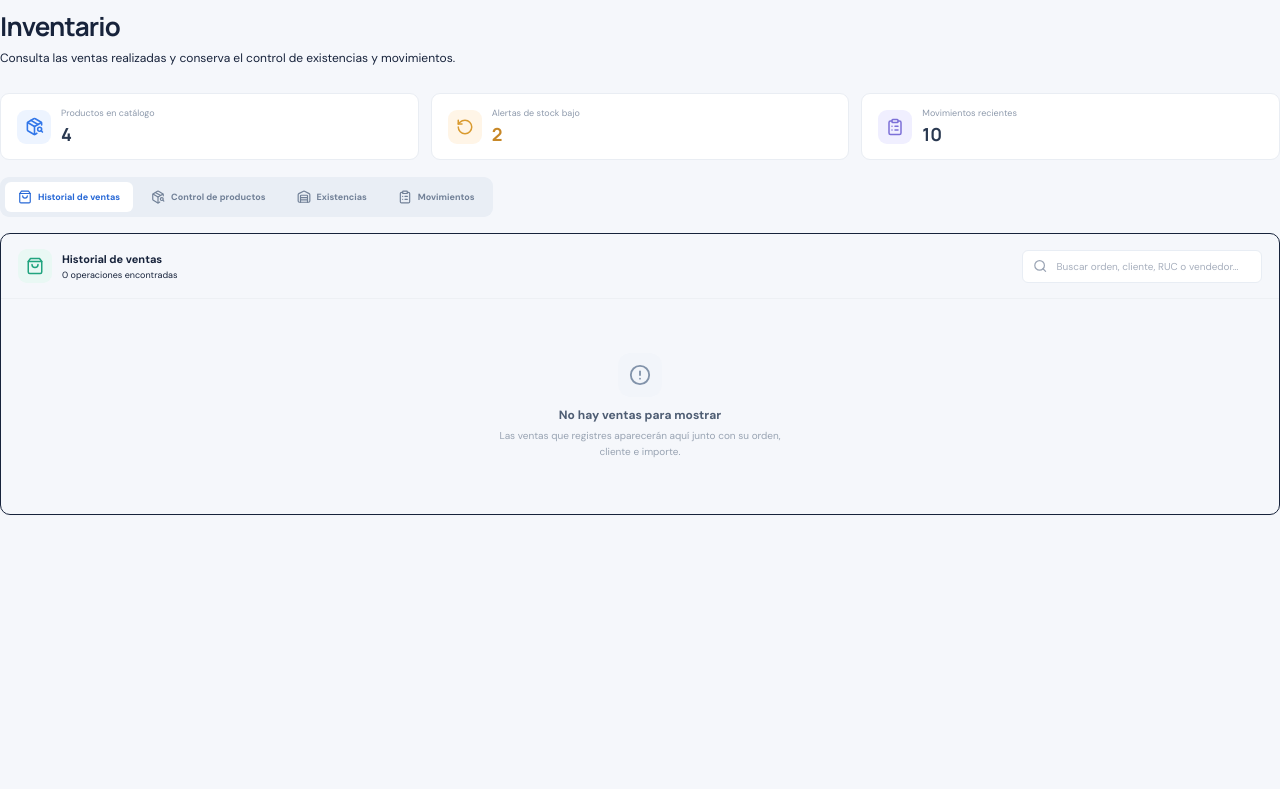
Test: InventoryPage product control › abre todos los movimientos recientes y permite filtrarlos por tipo
Click the tab "Control de productos" at (208, 197), box x1=138 y1=182 x2=278 y2=212
(page scrolled)
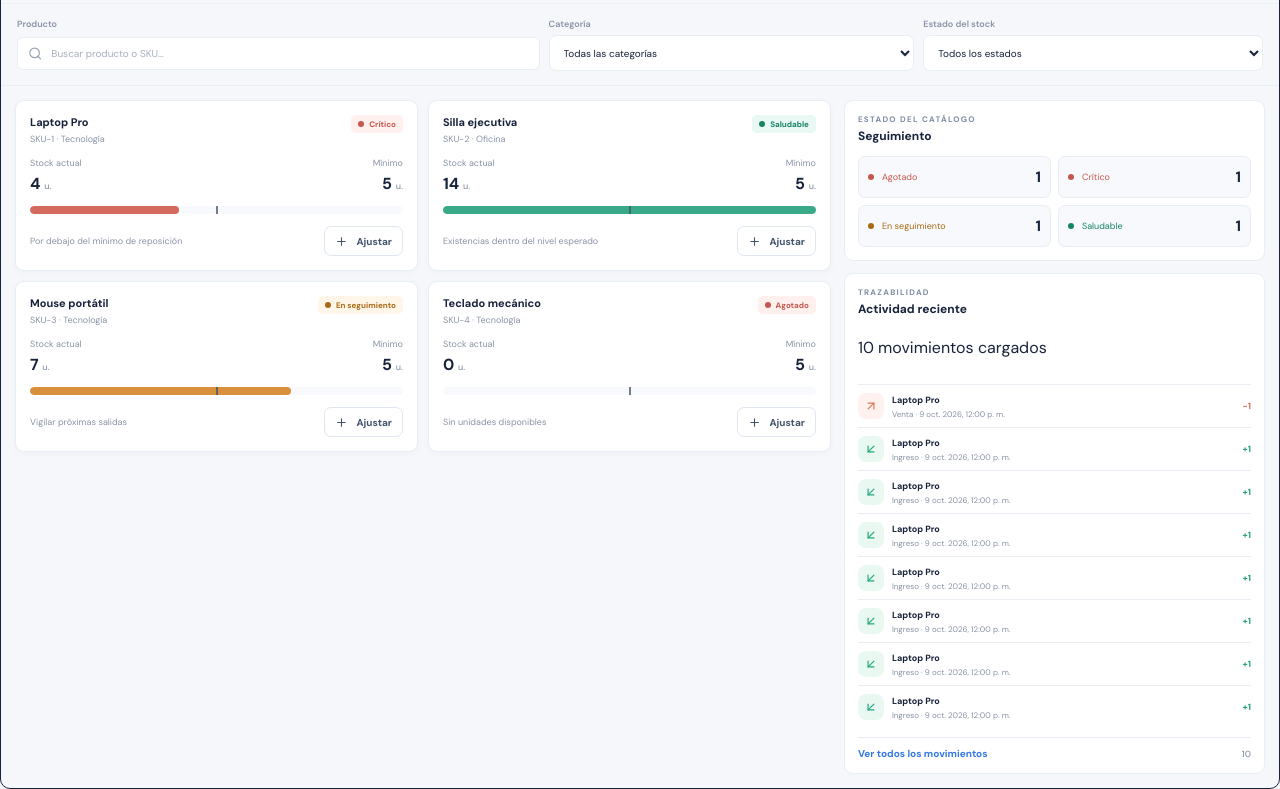
Click the button "Ver todos los movimientos 10" at (923, 754), box x1=858 y1=737 x2=1251 y2=760
(page scrolled)
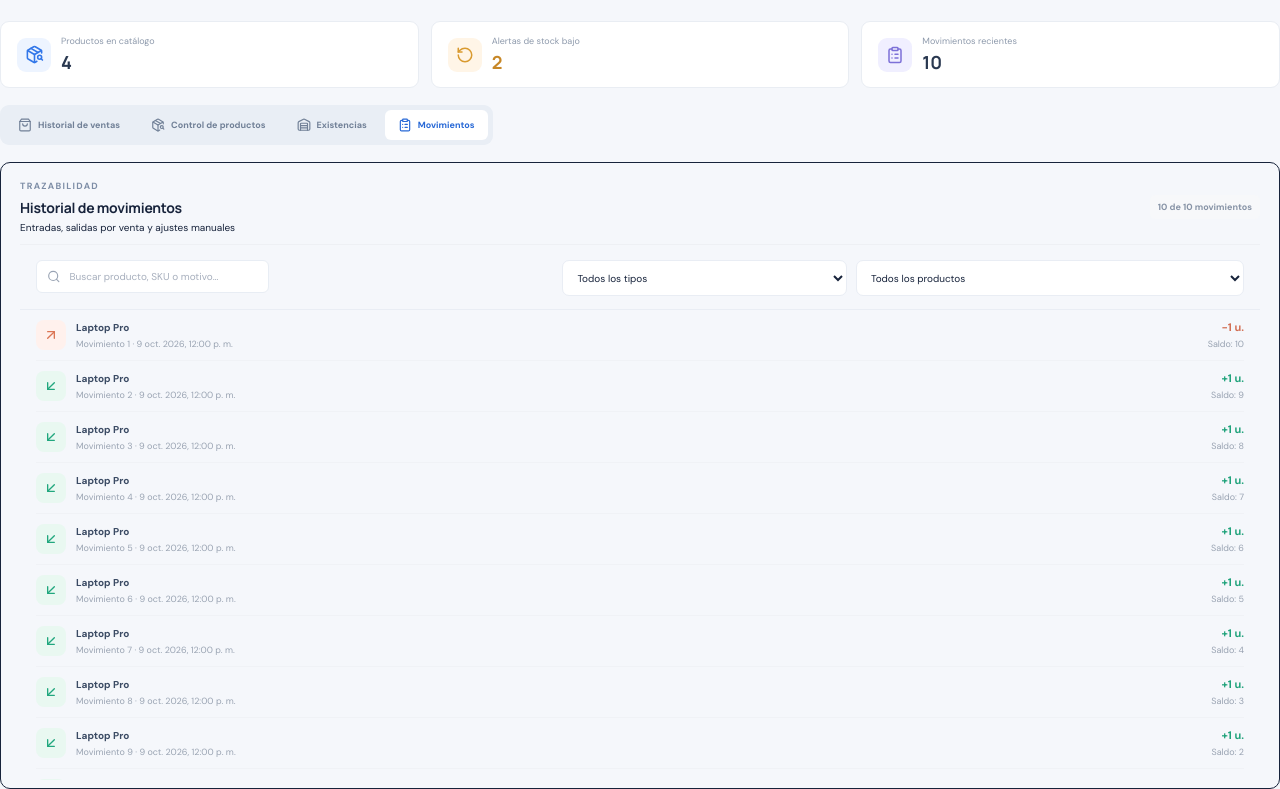
Expected: the text "10 de 10 movimientos" is shown, x1=1150 y1=195 x2=1260 y2=219
Expected: the number of elements with class "movement-row" is 10
Select "Venta" in the dropdown named "Filtrar tipo de movimiento" at (705, 278), box x1=562 y1=260 x2=847 y2=296
(page scrolled)
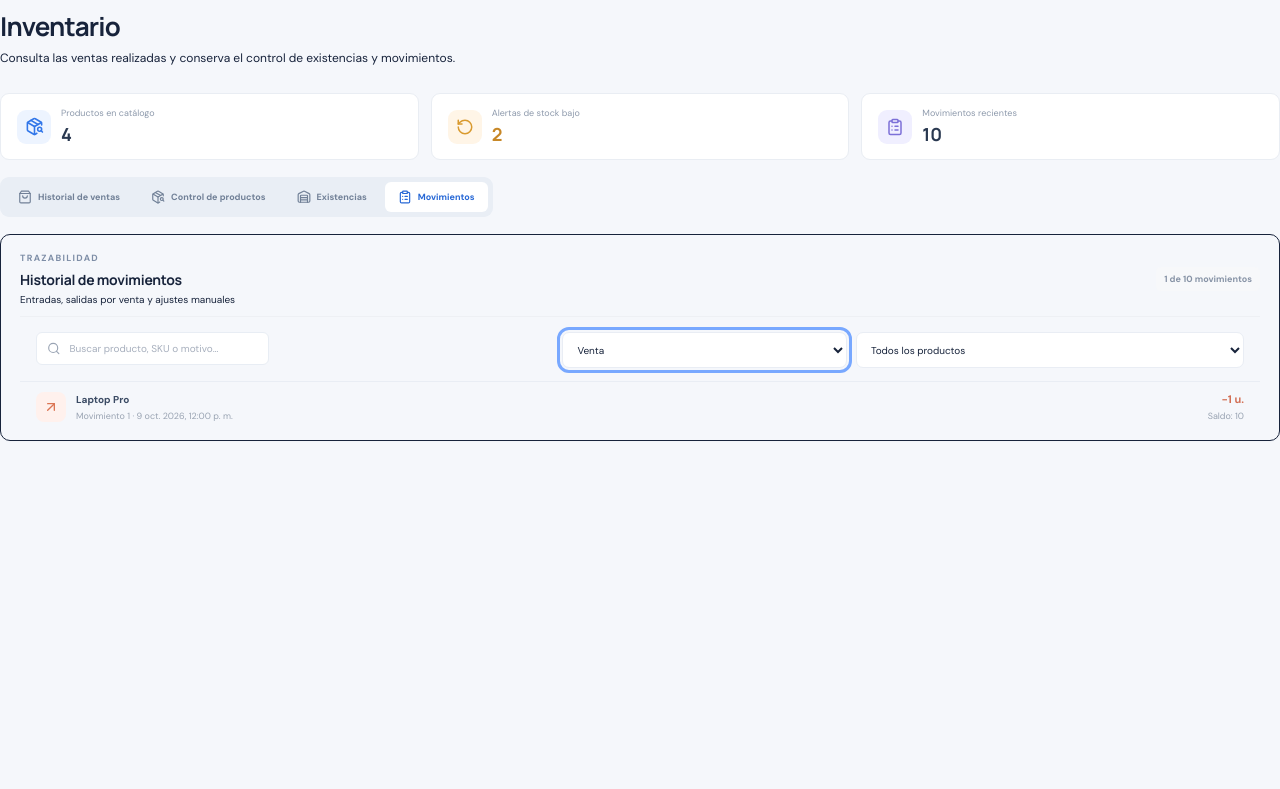
Expected: the text "Movimiento 1 · 9 oct. 2026, 12:00 p. m." is shown, x1=76 y1=410 x2=233 y2=422
Expected: the text "1 de 10 movimientos" is shown, x1=1156 y1=267 x2=1260 y2=291
Expected: the text "Movimiento 2" is gone
